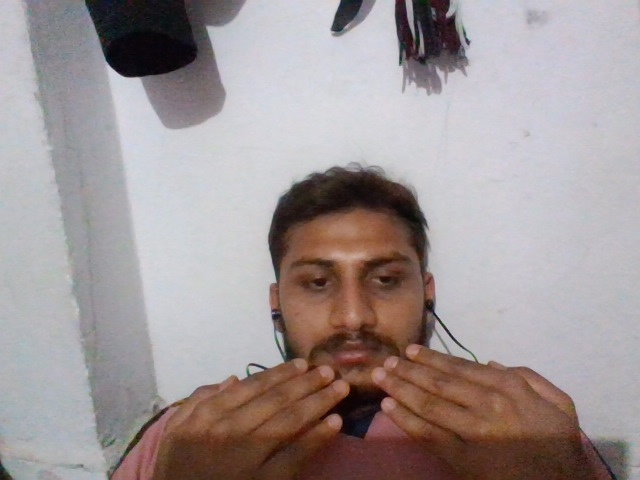Thanks: (140, 324, 610, 480)
